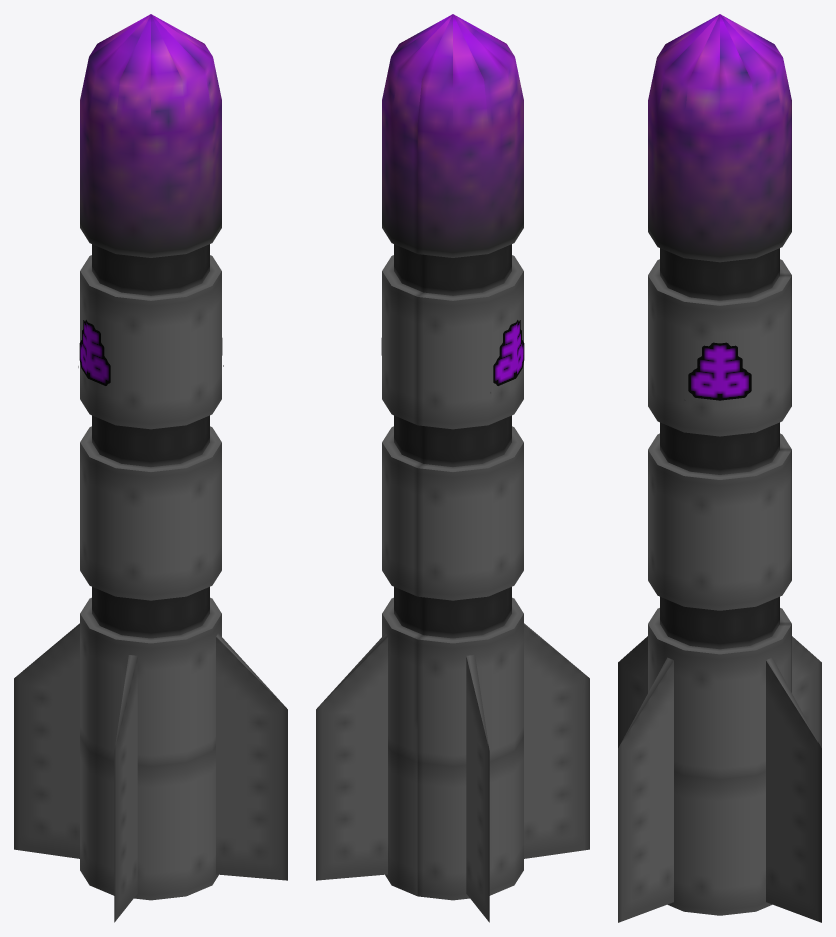
The model's file is missile_taint.obj.
3 renders of one model, left to right at view 1: azimuth 30°, elevation 25°; view 2: azimuth 150°, elevation 25°; view 3: azimuth 270°, elevation 25°, orthographic.
Visible parts, largest first — view 1: missile_taint; view 2: missile_taint; view 3: missile_taint.
Part boxes in pixels (box(x1,y1,x2,y2)): missile_taint: box(14, 14, 287, 922); missile_taint: box(316, 14, 589, 922); missile_taint: box(618, 14, 821, 922).
Size of the model in its own units: 1.06 by 5 by 1.06.
